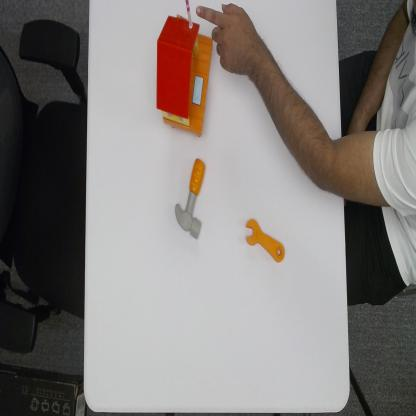Arm: (261, 41, 416, 209)
Hammer: (174, 157, 209, 242)
Hand: (195, 0, 262, 78)
House: (155, 0, 214, 139)
Screwdriver: (244, 216, 285, 264)
